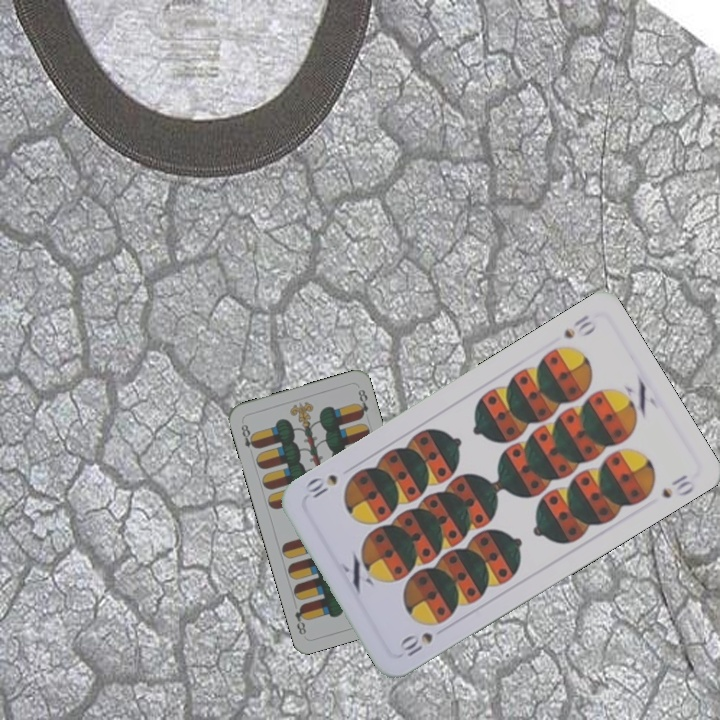E8: (237, 420, 260, 451)
S10: (395, 628, 436, 661), (559, 310, 600, 342)
